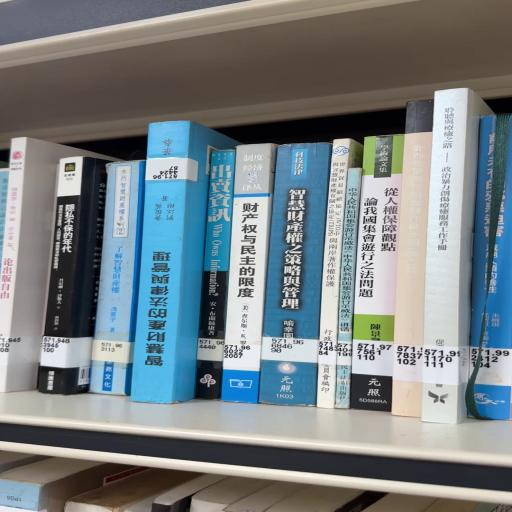reverse: (133, 122, 239, 404)
